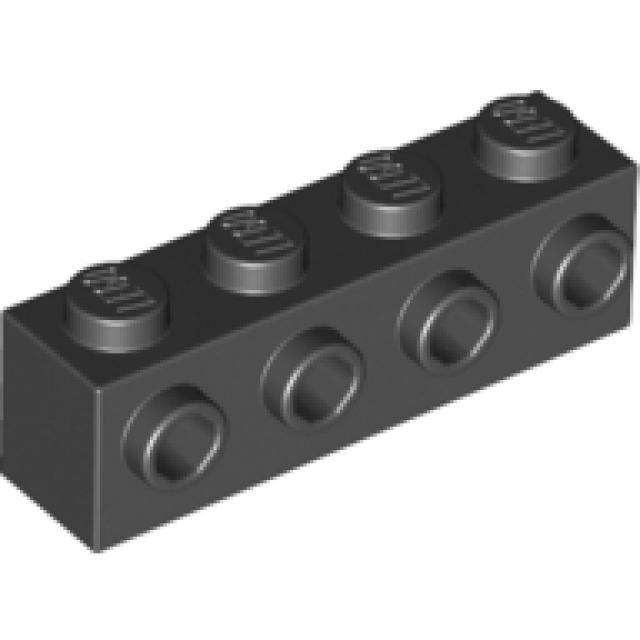Black_Medium: (0, 90, 640, 557)
